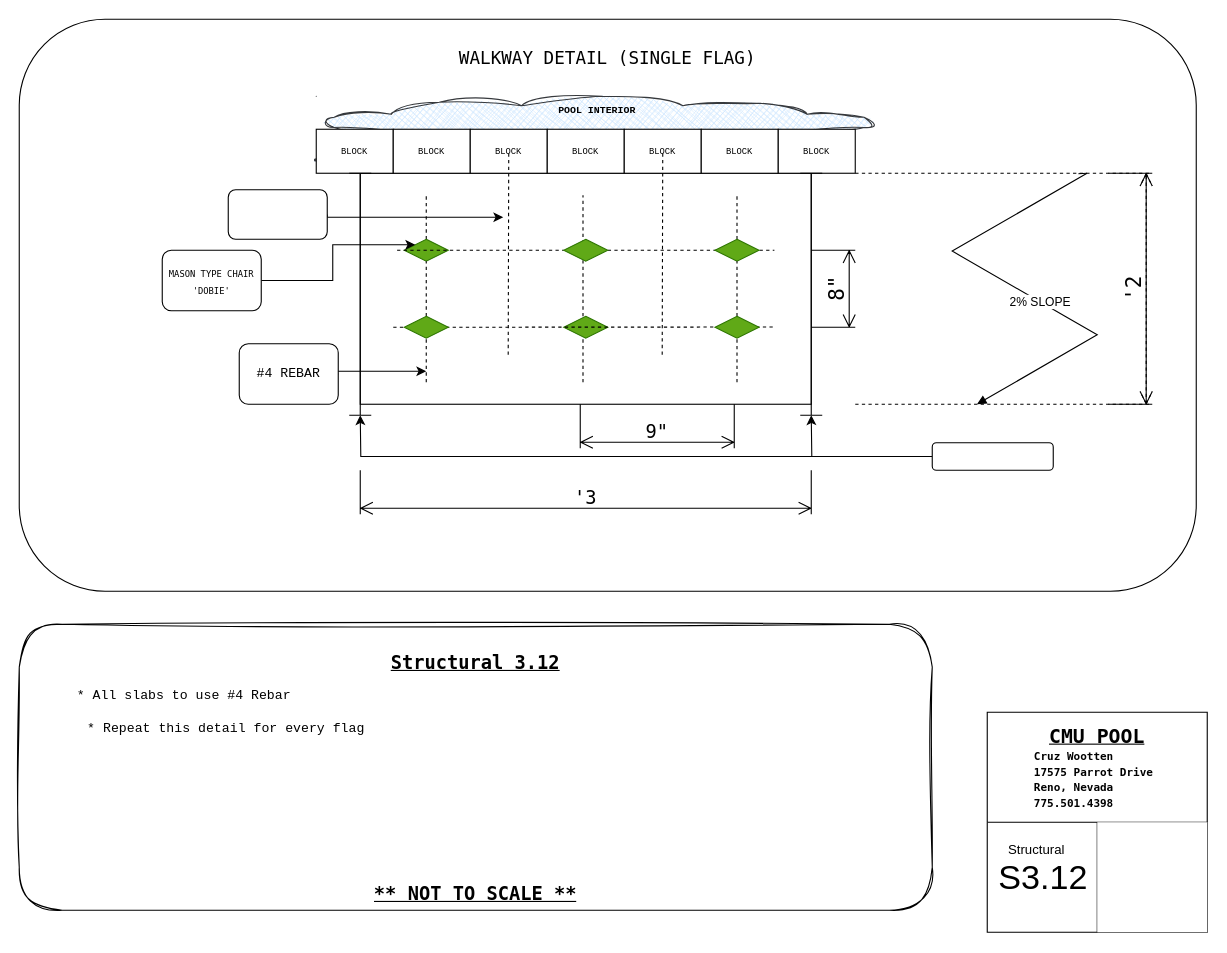
Image size: 1227x953. Some labels were removed from this diagram. The shapes that lost their labels are listed below. From the top down, each one's centre as x and y in pixels, then its label:
point (277, 214): Epoxy #4 into CMU
point (992, 456): EXPANSION JOINT
point (1152, 877): Drawing Page /
